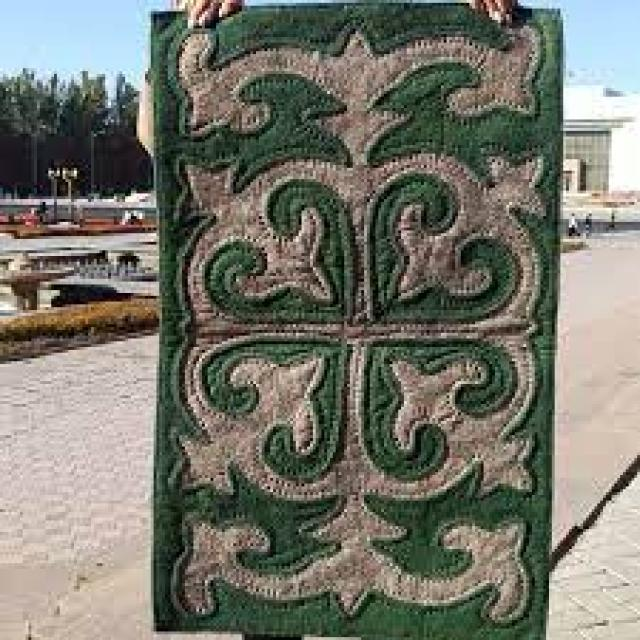Unity: (164, 143, 549, 504)
